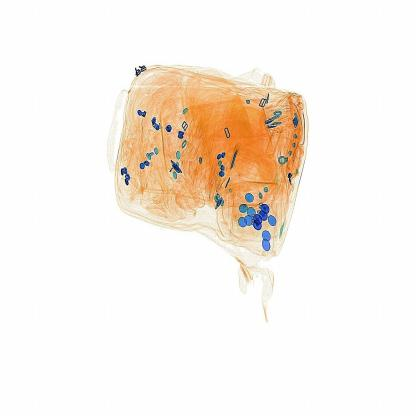wrench: (223, 139, 242, 179)
